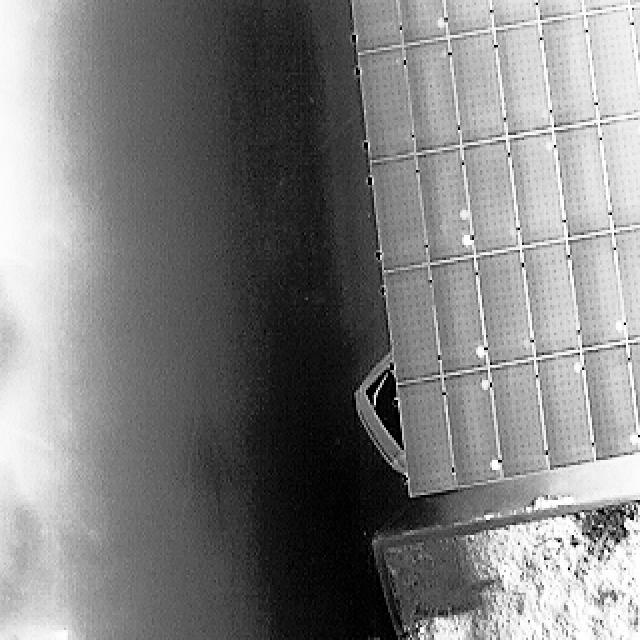Hotspots: (454, 228, 476, 252), (452, 204, 476, 224), (472, 339, 490, 362), (610, 314, 627, 336), (624, 425, 640, 447), (568, 356, 584, 376), (487, 453, 502, 474), (477, 377, 493, 393)
PV-modules: (518, 236, 584, 365), (504, 126, 570, 253), (534, 347, 599, 475), (550, 117, 616, 243), (473, 243, 537, 371), (491, 19, 558, 141), (564, 227, 628, 354), (459, 133, 523, 259), (447, 25, 511, 150), (429, 252, 491, 381), (487, 356, 550, 482), (414, 143, 477, 269), (442, 367, 505, 492), (537, 11, 602, 132), (579, 339, 640, 467), (381, 263, 443, 388), (396, 373, 457, 499), (369, 152, 431, 275), (356, 42, 418, 165), (403, 33, 463, 160), (582, 3, 640, 127), (596, 110, 640, 235), (608, 222, 640, 346), (349, 0, 405, 55), (399, 0, 450, 47), (443, 0, 496, 41), (626, 336, 640, 457), (487, 0, 542, 30), (532, 0, 585, 23), (630, 3, 640, 96), (582, 0, 631, 11)
